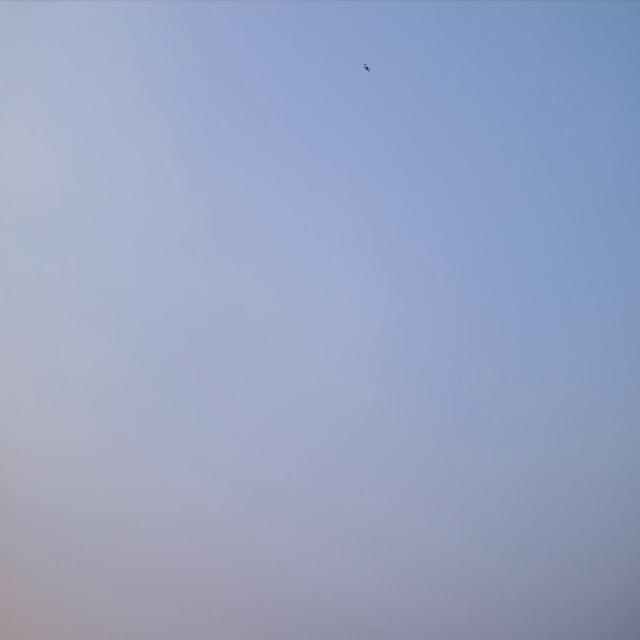UAV: (363, 62, 370, 72)
